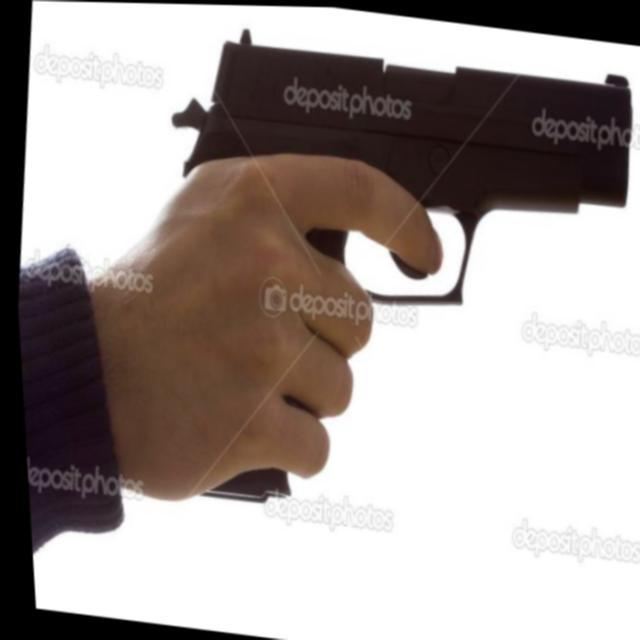weapon: (145, 12, 640, 337)
